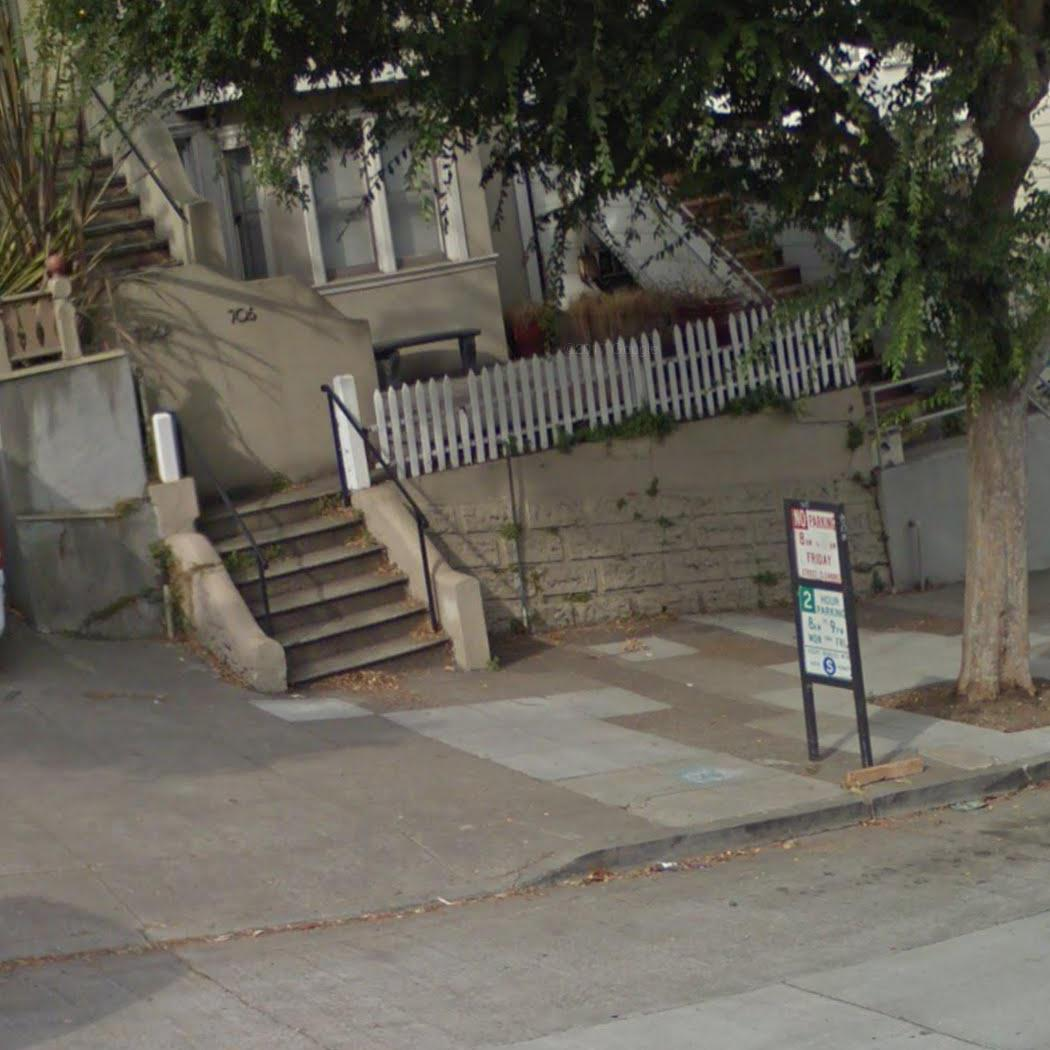2 Hour Parking: (792, 584, 858, 685)
No Parking: (786, 496, 848, 590)
